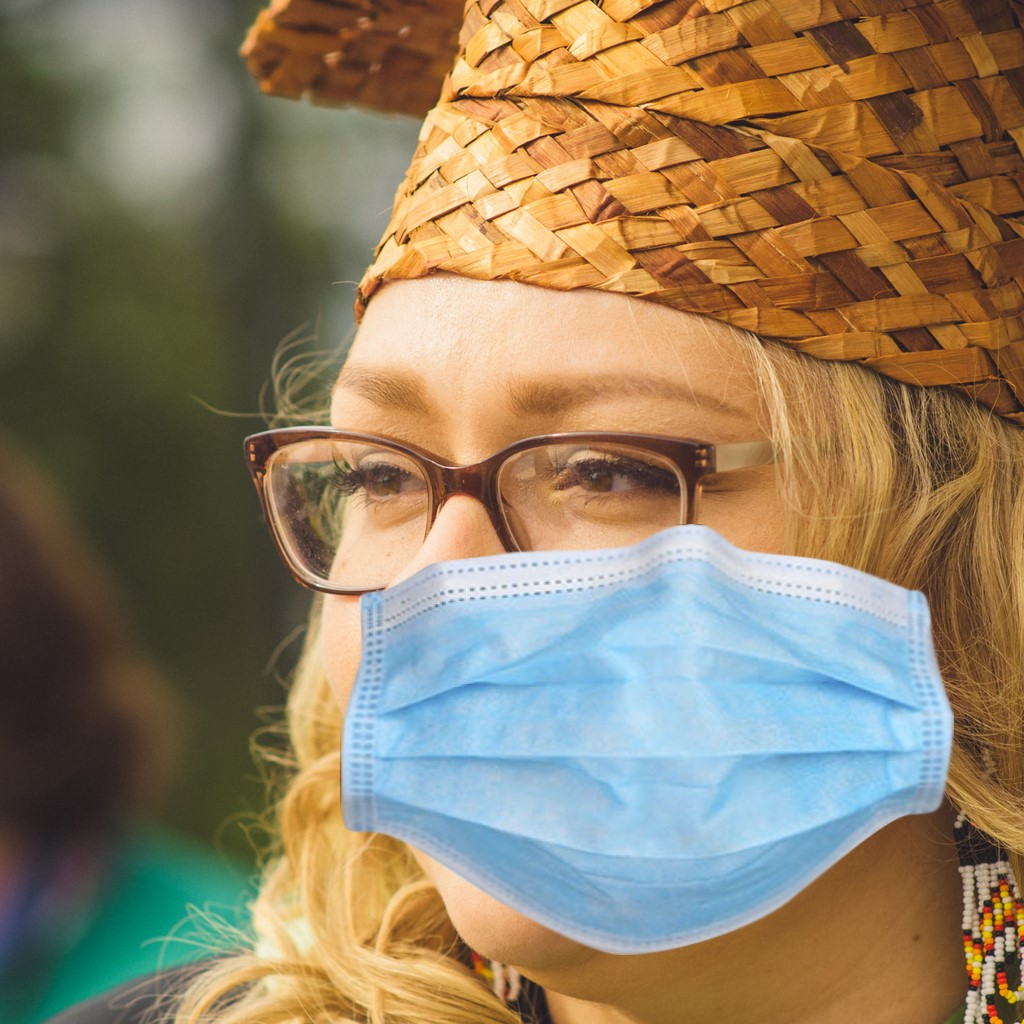con_mascara: (274, 156, 907, 999)
